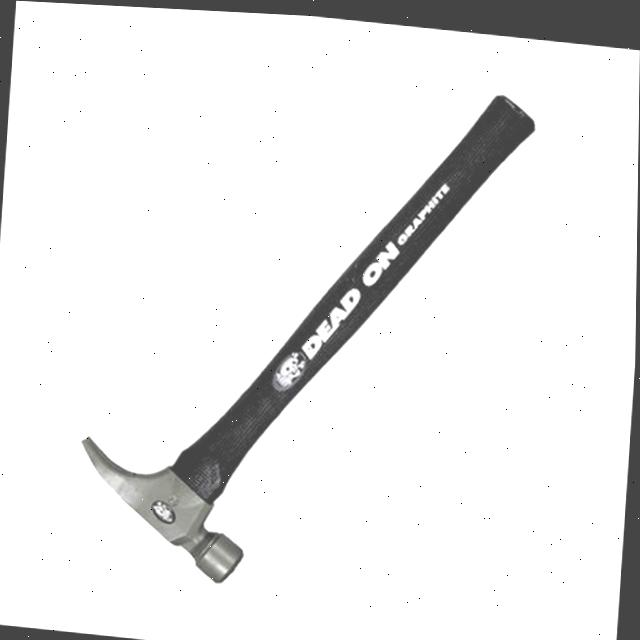hammer: (63, 41, 546, 619)
